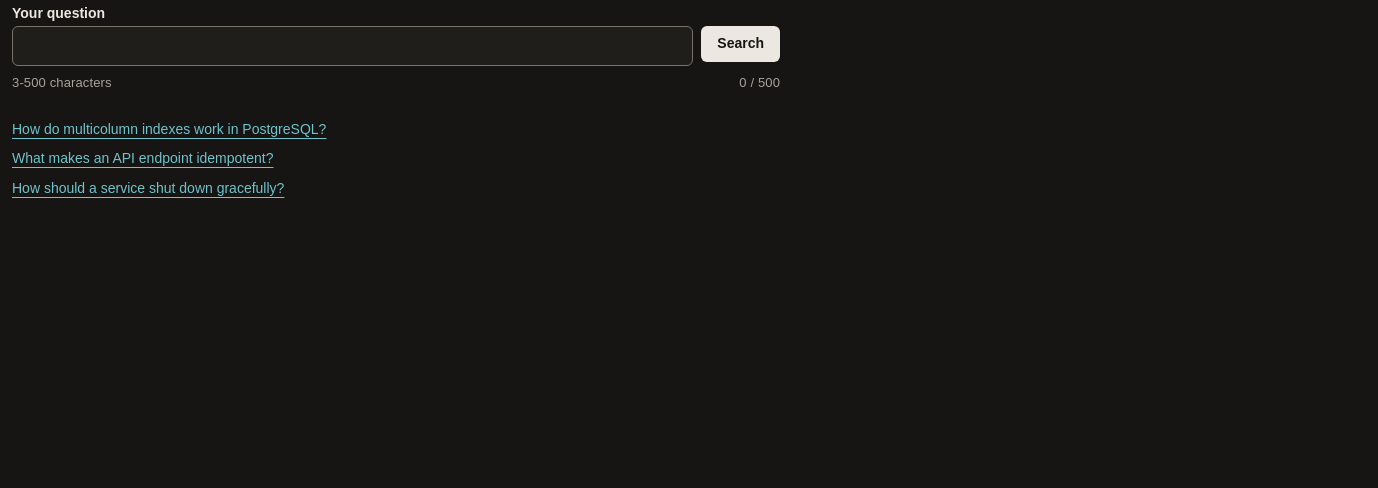
Test: results › route preview wording: needs_input, unsupported, the server note, nothing
This screenshot has width=1378, height=488.
Type "a question" into the search field labelled "Your question" at (353, 46), box [12,26,693,66]
Click the button "Search" at (741, 44), box [701,26,780,62]
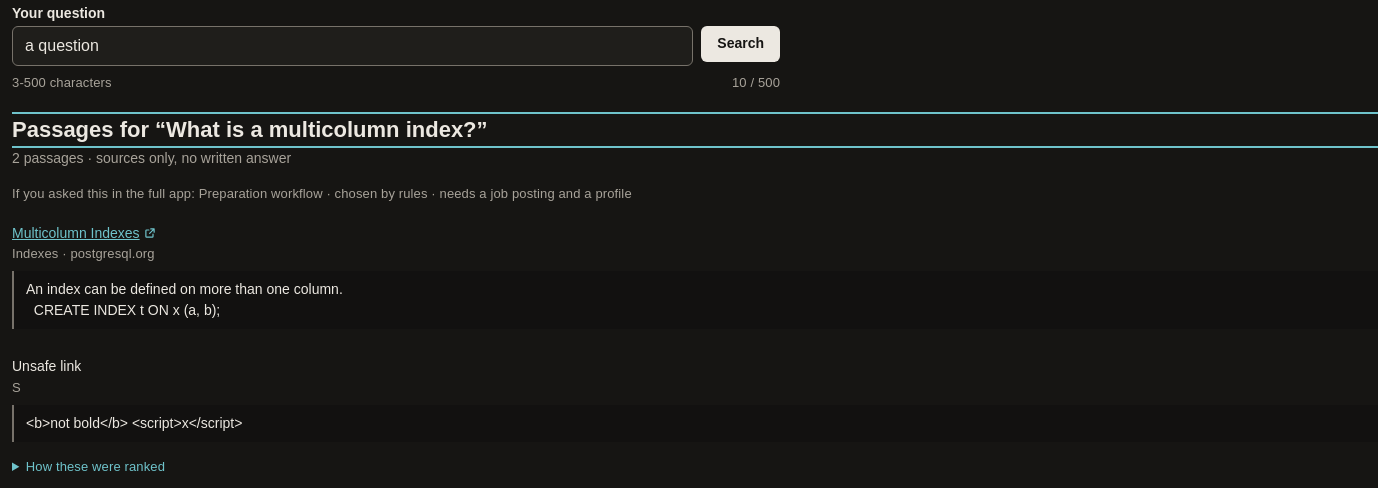
Expected: the text "If you asked this in the full app: Preparation workflow · chosen by rules · needs a job posting and a profile" is shown, [12,186,632,201]
Replace the text in the search field labelled "Your question" with "a question 2" at (353, 46), box [12,26,693,66]
Click the button "Search" at (741, 44), box [701,26,780,62]
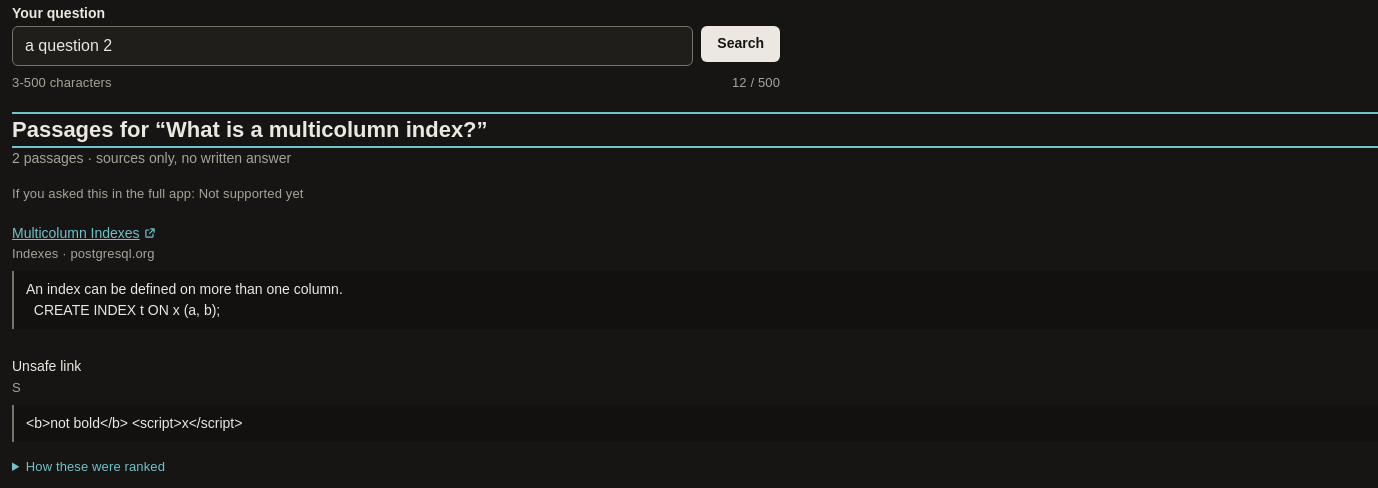
Expected: the text "If you asked this in the full app: Not supported yet" is shown, [12,186,304,201]
Replace the text in the search field labelled "Your question" with "a question 3" at (353, 46), box [12,26,693,66]
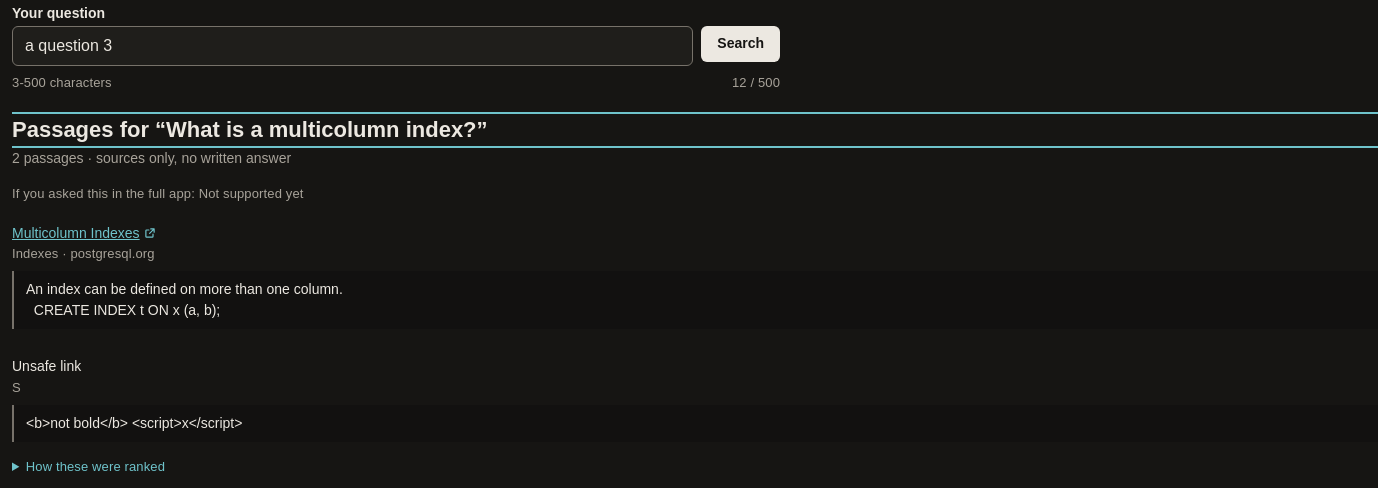
Click the button "Search" at (741, 44), box [701,26,780,62]
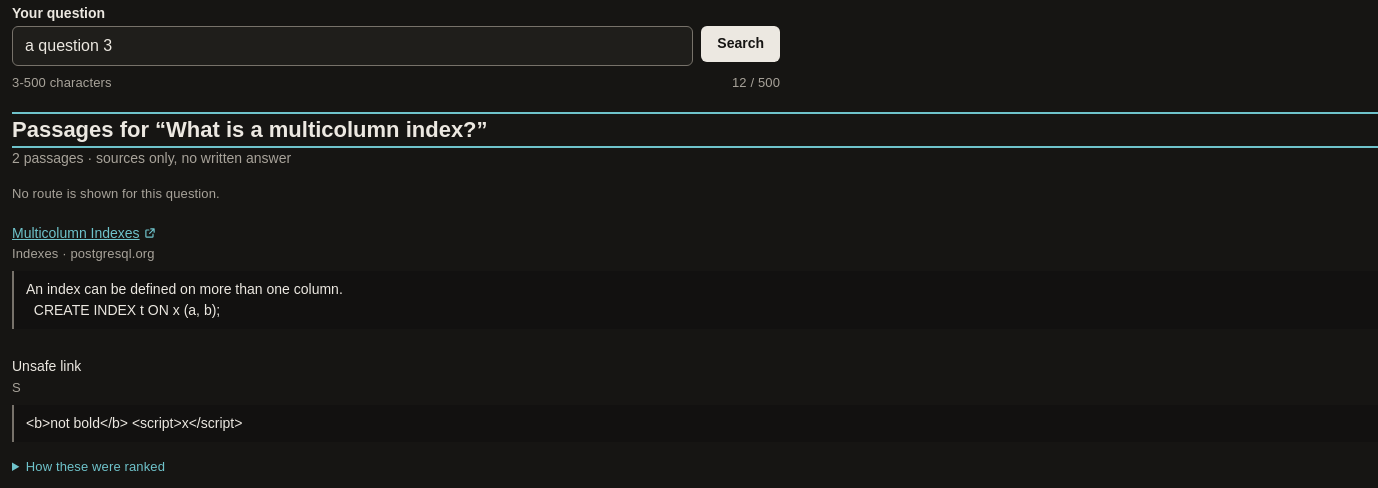
Expected: the text "No route is shown for this question." is shown, [12,186,220,201]
Replace the text in the search field labelled "Your question" with "a question 4" at (353, 46), box [12,26,693,66]
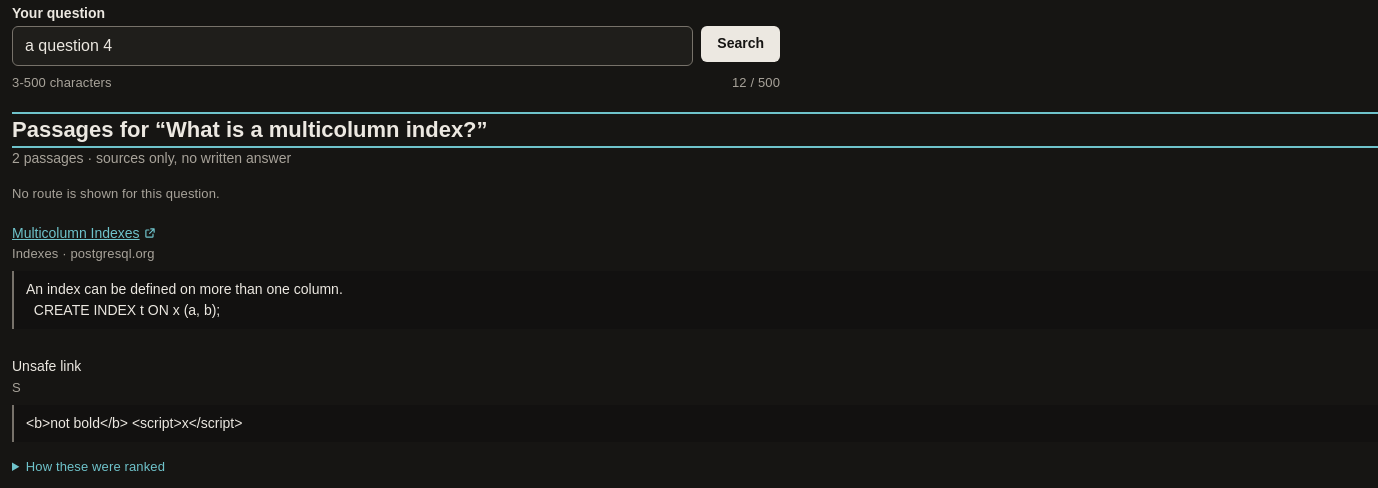
Click the button "Search" at (741, 44), box [701,26,780,62]
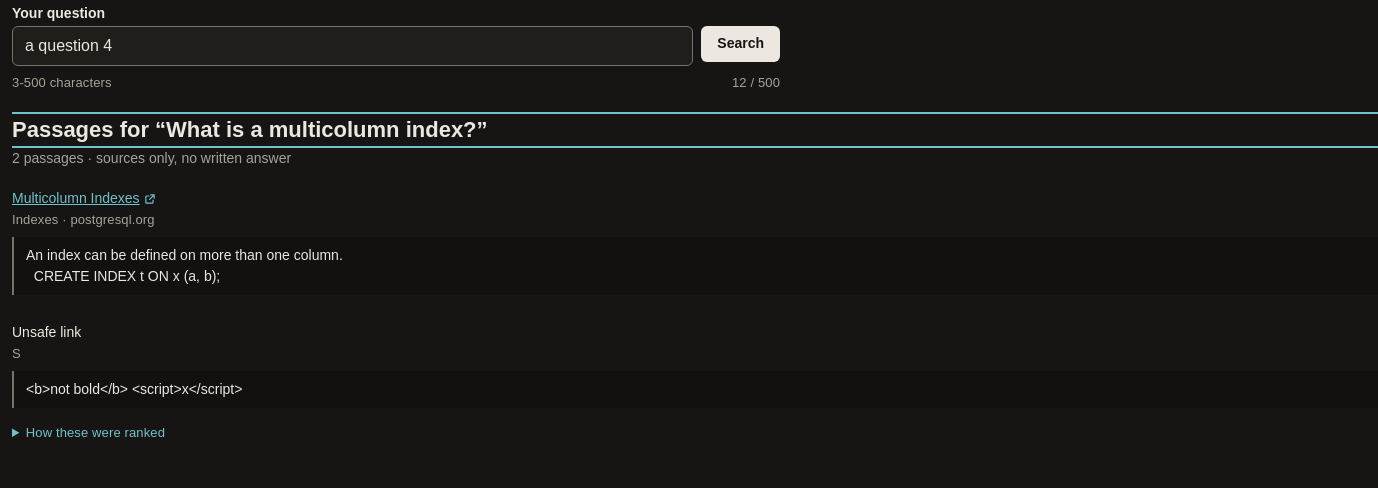
Expected: the text "If you asked this" is not shown
Expected: the text "No route is shown for this question." is gone
